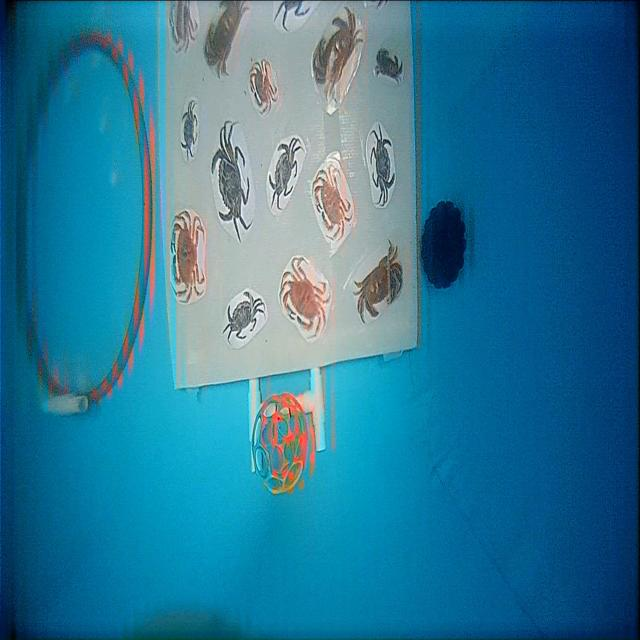GreenCrab: (212, 121, 252, 241), (268, 137, 302, 210), (222, 292, 264, 343), (371, 125, 395, 206)
